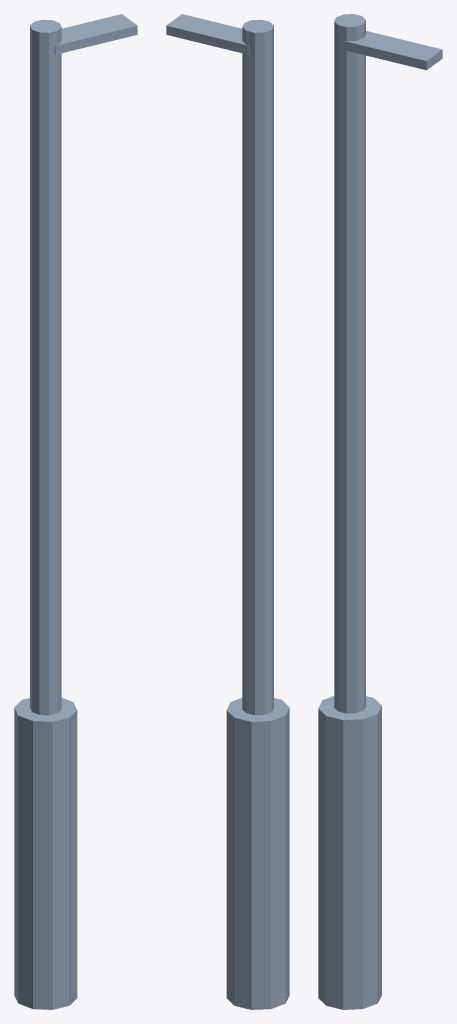
File: slums_lightpost.fbx
3 renders of one model, left to right at view 1: azimuth 30°, elevation 25°; view 2: azimuth 150°, elevation 25°; view 3: azimuth 330°, elevation 25°, orthographic.
Visible parts, largest first — view 1: light_post12_pCylinder2; view 2: light_post12_pCylinder2; view 3: light_post12_pCylinder2.
Boxes of the visible parts, <box> form: light_post12_pCylinder2: <box>14,14,137,1009</box>; light_post12_pCylinder2: <box>166,14,289,1009</box>; light_post12_pCylinder2: <box>318,14,442,1009</box>.
Size of the model in its own units: 1.9 by 15.8 by 0.892.
